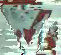Give way: (1, 2, 52, 49)
